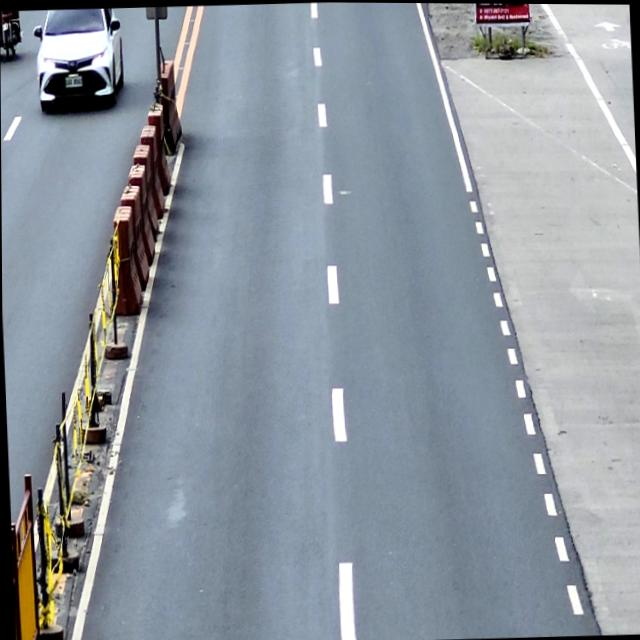Car: (32, 7, 125, 113)
License-Plate: (63, 71, 83, 88)
Tricycle: (0, 10, 23, 61)
